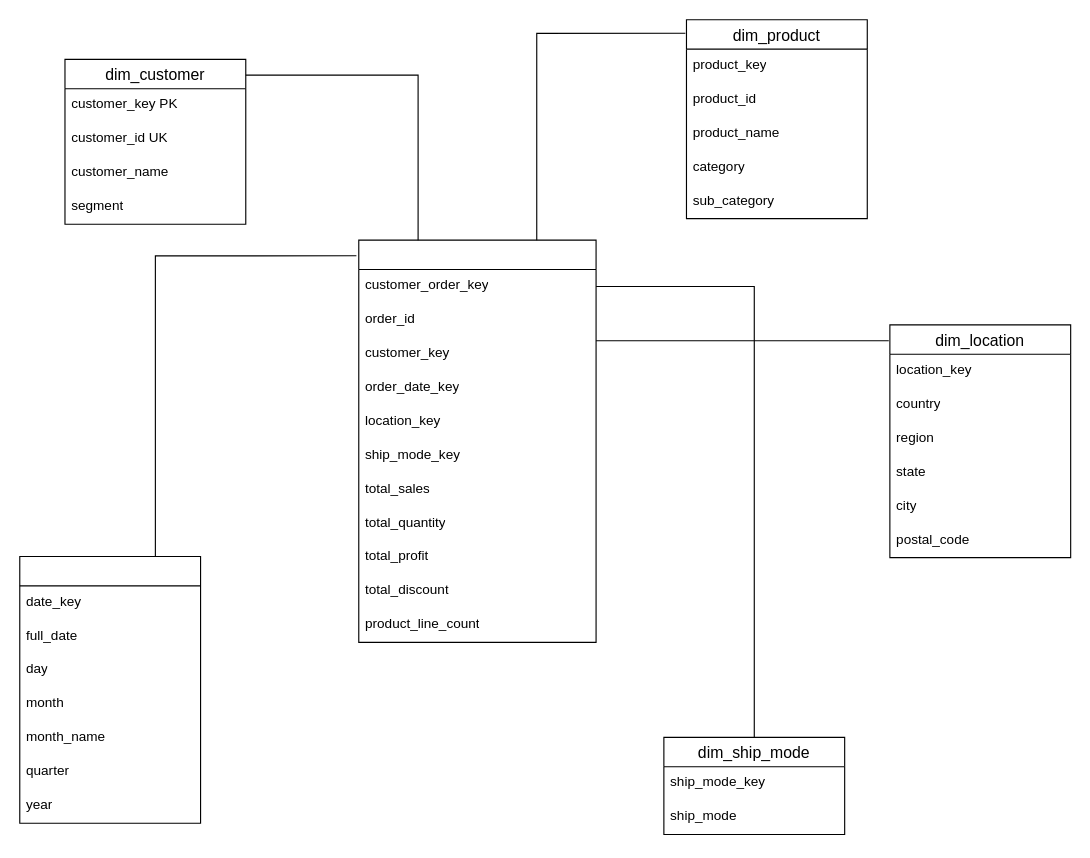
This 1090x858 diagram has some shape labels left out. Here are the shapes that lost their labels. From the top down, the box of each, then its label:
(358, 239, 596, 642): fact_customer_order
(19, 555, 201, 823): dim_date
